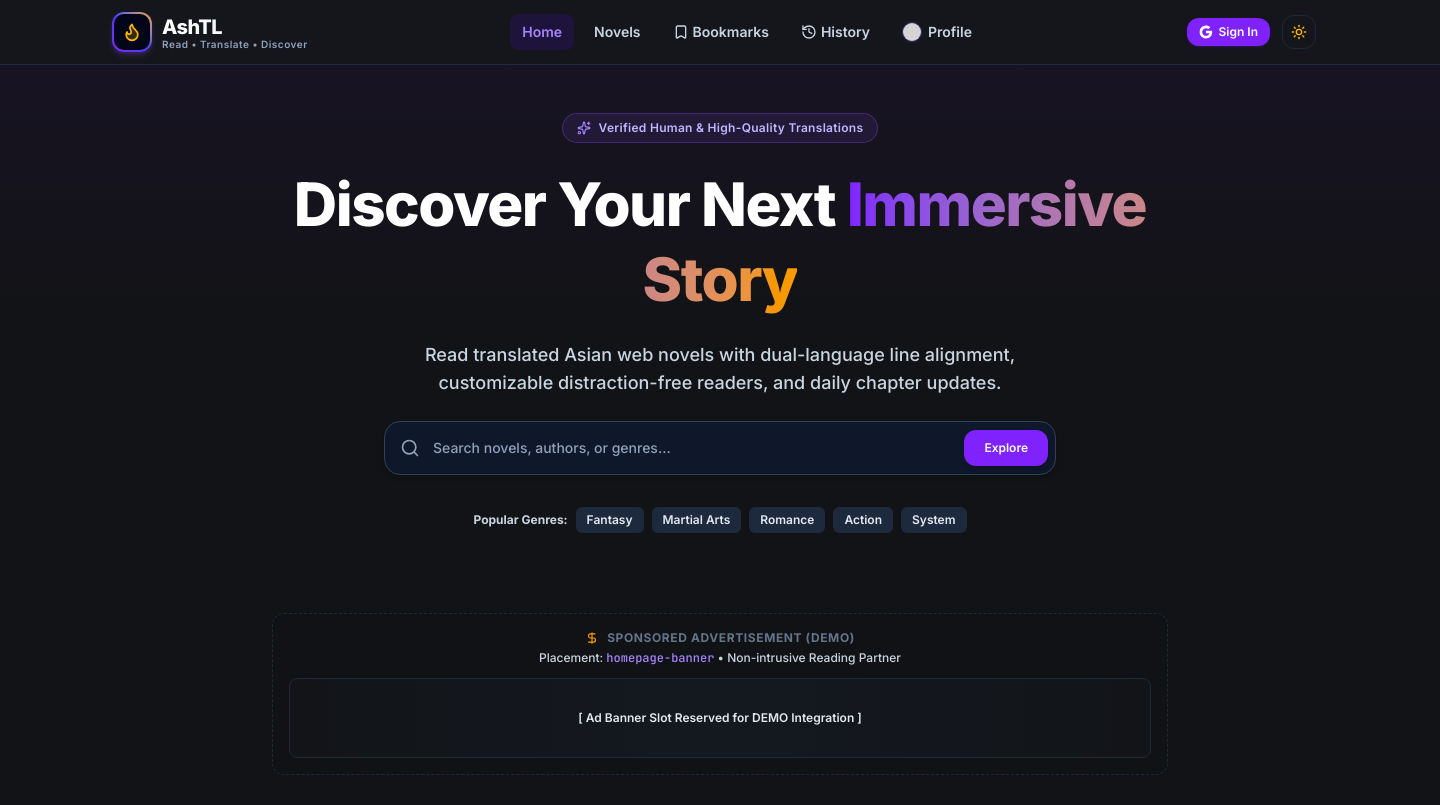
Test case: AshTL Application Core Workflows & Admin Security › filters out novels that no longer exist from bookmarks and reading history views
Click the button "Bookmarks": {"x": 721, "y": 32} [660,14,781,50]
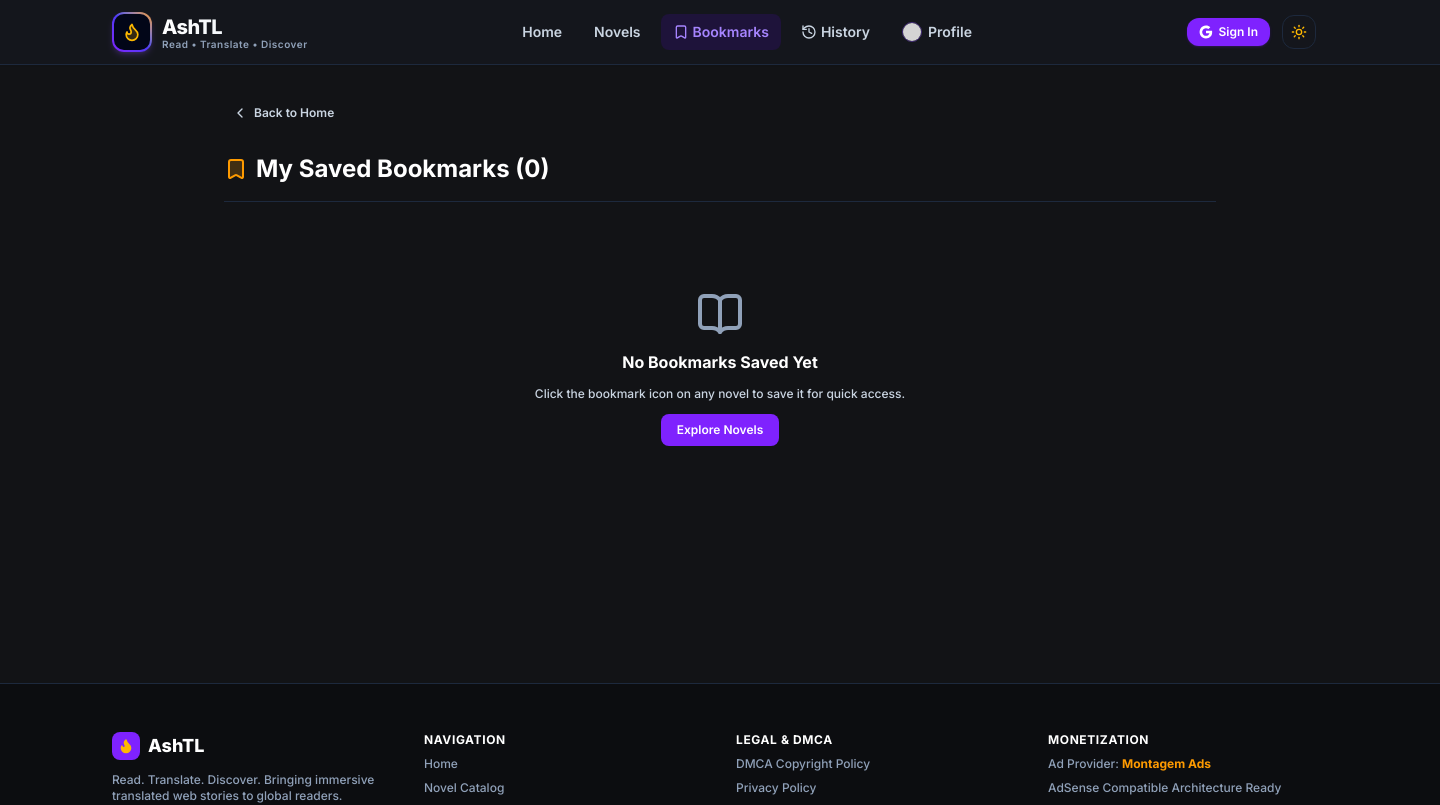
Now the heading "No Bookmarks Saved Yet" is shown, box [622,352,818,372]
